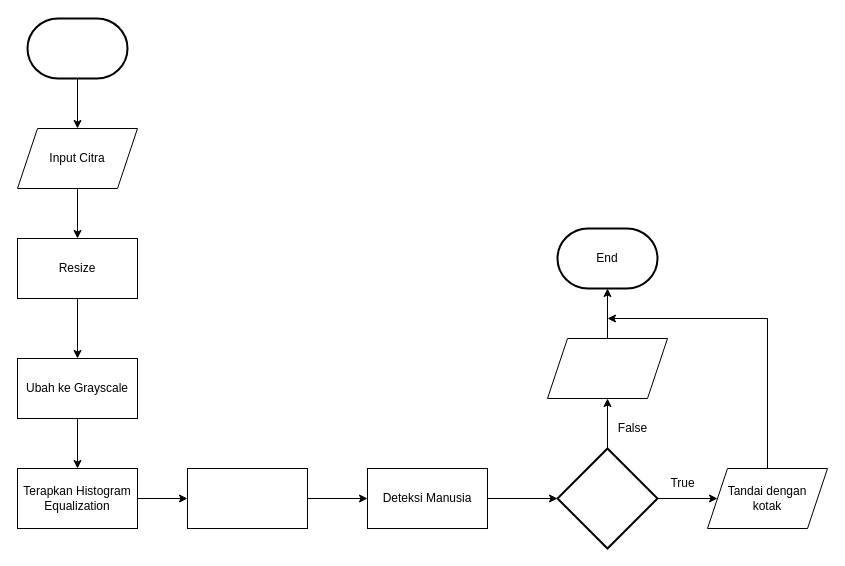
Some shapes in this 845 by 566 pixel diagram are drawn without their labels. The centre of each missing label's shape, as x and y in pixels:
Hasil HOG menyerupai manusia?: point 607,498
Start: point 77,48
Tentukan HOG: point 247,498
Tidak Terjadi apa-apa: point 607,368
